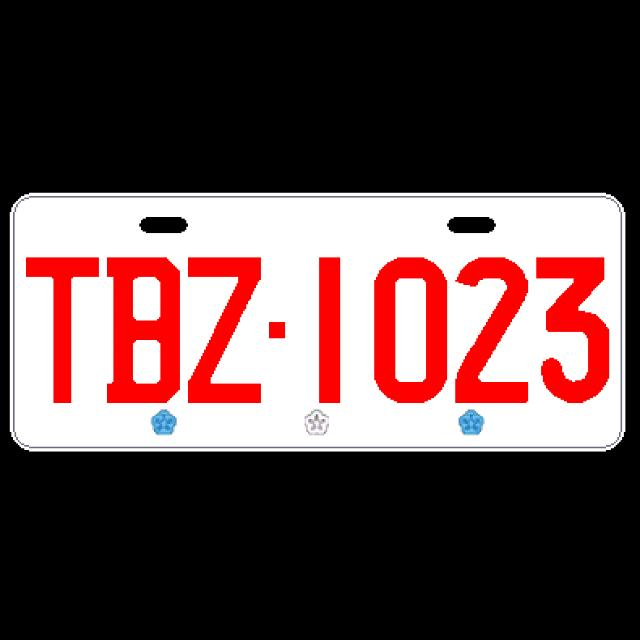plate: (8, 188, 628, 454)
